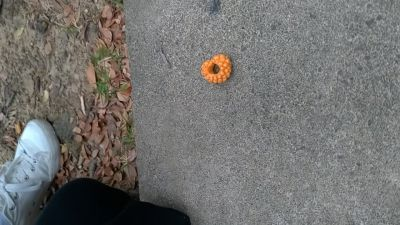eggs: (200, 53, 232, 83)
